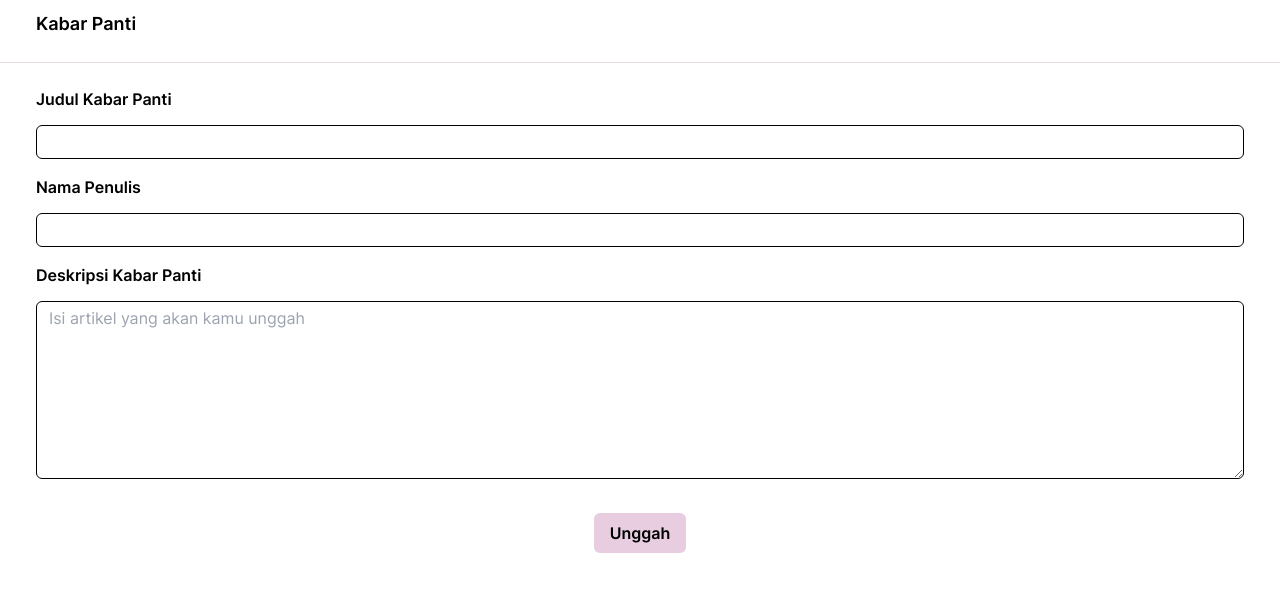
Test: BuatKabarPanti2 component › menampilkan pesan "upload berhasil" jika semua field terisi
Type "Test Title" into the field labelled "Judul Kabar Panti".
click(640, 142); type("Test Title")  # box [36,125,1244,159]
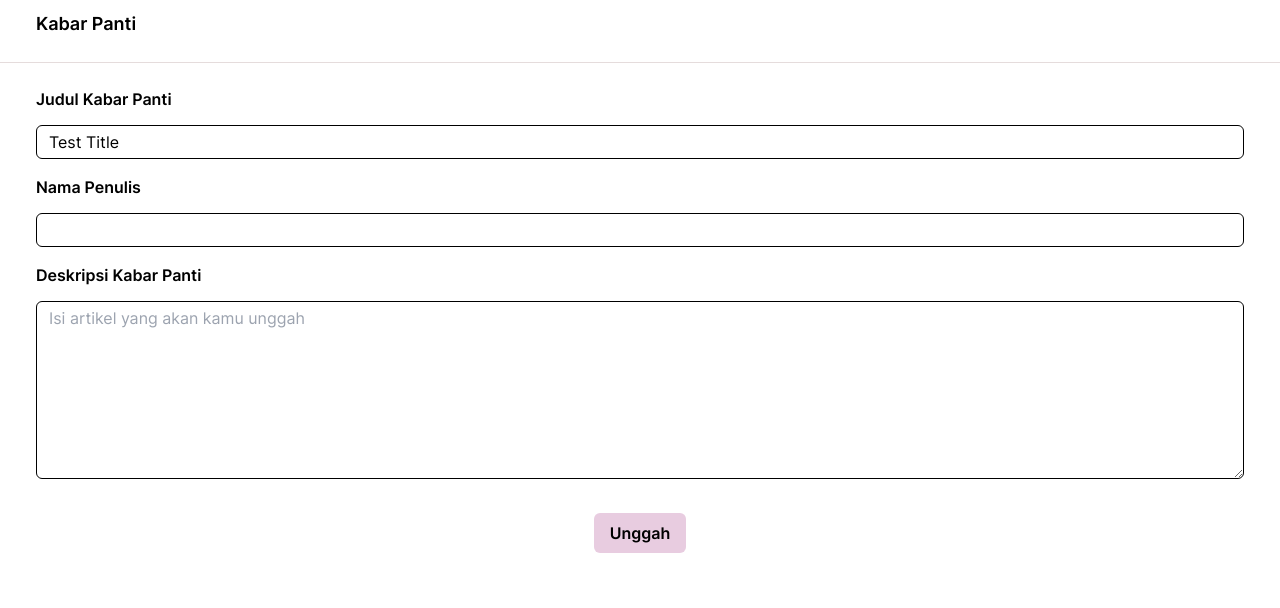
Type "Test Author" into the field labelled "Nama Penulis".
click(640, 230); type("Test Author")  # box [36,213,1244,247]
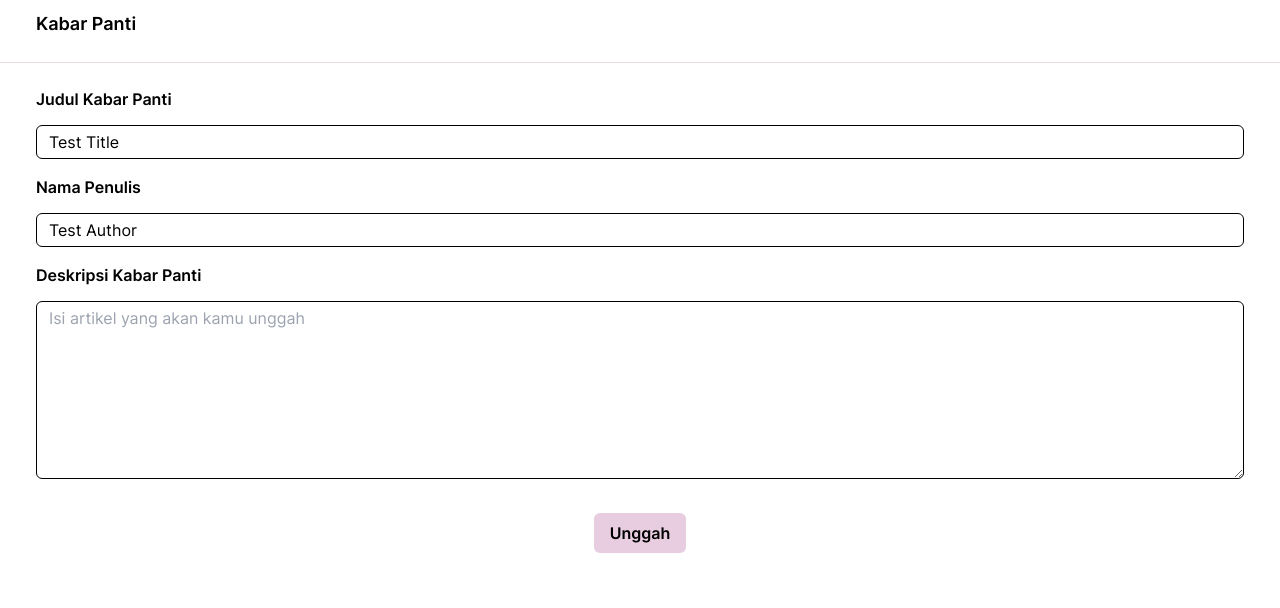
Type "Test Description" into the text box labelled "Deskripsi Kabar Panti".
click(640, 390); type("Test Description")  # box [36,301,1244,479]
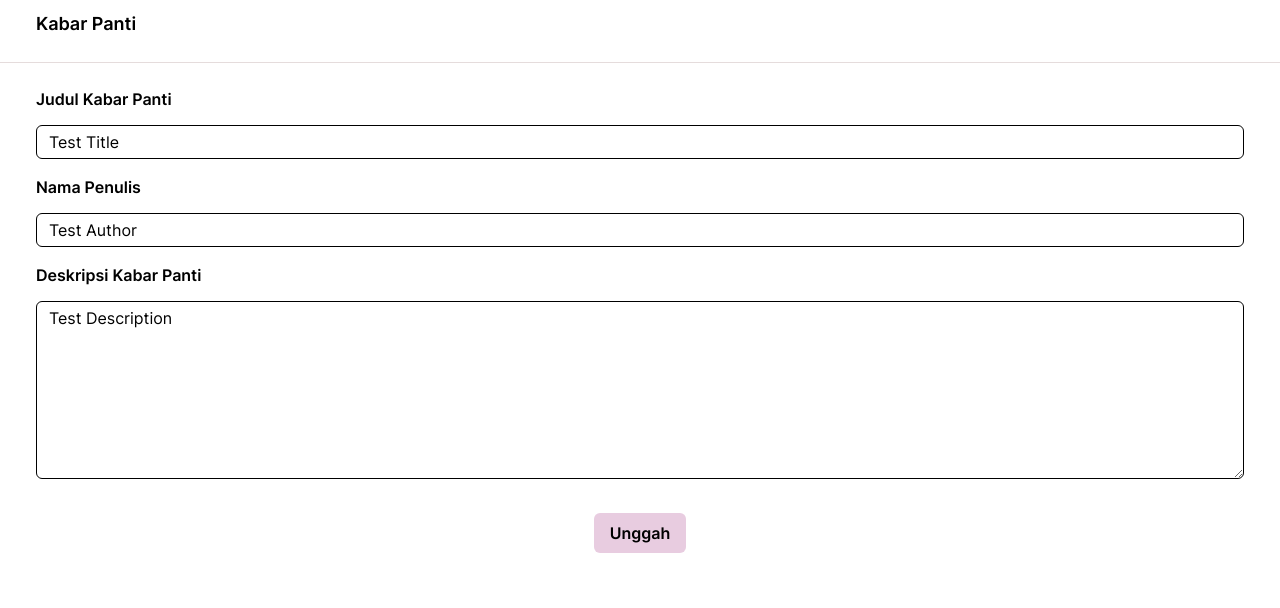
Click the button "Unggah".
click(640, 533)  # box [594,513,686,553]
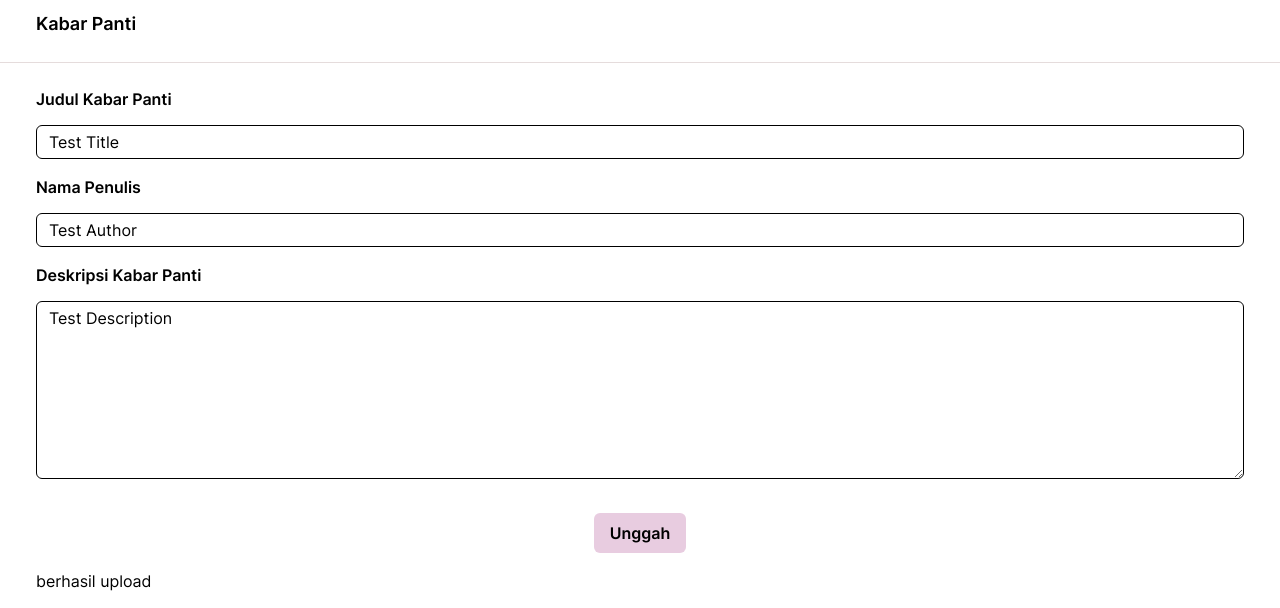
Check: the text "berhasil upload" is shown, box [36,571,152,591]
